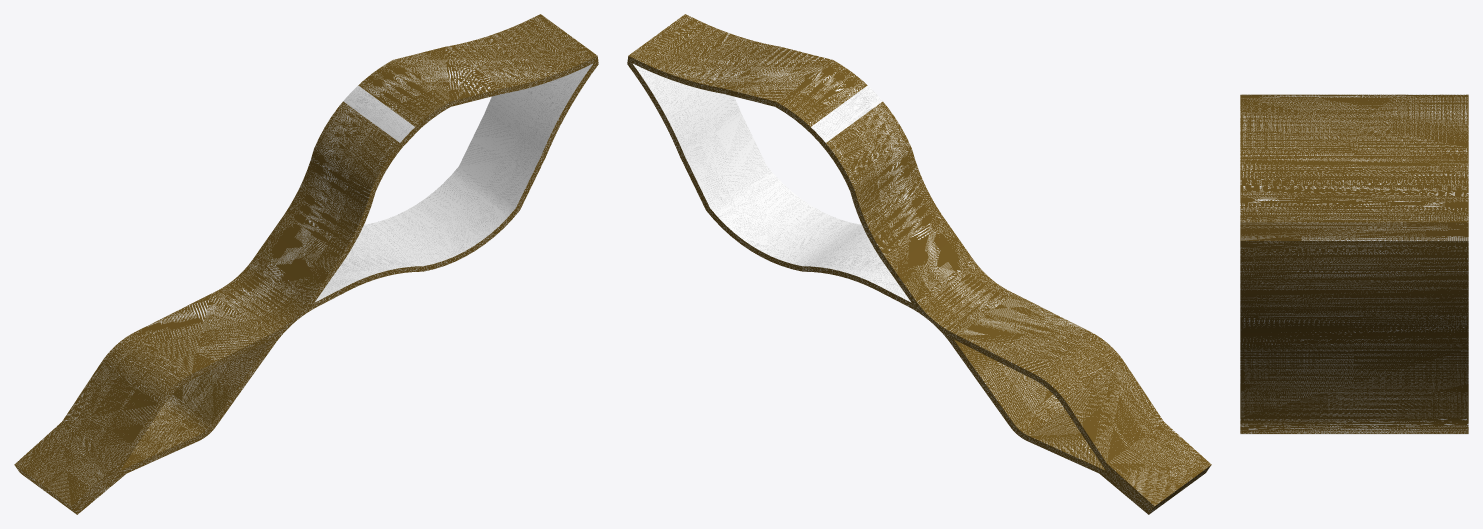
The model's file is original-31.obj.
3 views of the same model, side by side, from view 1: azimuth 30°, elevation 25°; view 2: azimuth 150°, elevation 25°; view 3: azimuth 270°, elevation 25° (orthographic). The views are drawn at different scales.
Visible parts, largest first — view 1: Component_1_17/Component_1/mesh43/mesh43-geometry#mesh43-geometr; view 2: Component_1_17/Component_1/mesh43/mesh43-geometry#mesh43-geometr; view 3: Component_1_17/Component_1/mesh43/mesh43-geometry#mesh43-geometr.
Boxes of the visible parts, x1,y1,x2,y2 form: Component_1_17/Component_1/mesh43/mesh43-geometry#mesh43-geometr: [14, 14, 598, 514]; Component_1_17/Component_1/mesh43/mesh43-geometry#mesh43-geometr: [627, 14, 1211, 514]; Component_1_17/Component_1/mesh43/mesh43-geometry#mesh43-geometr: [1240, 94, 1468, 434].
Size of the model in its own units: 0.7222 by 0.4347 by 0.1353.
